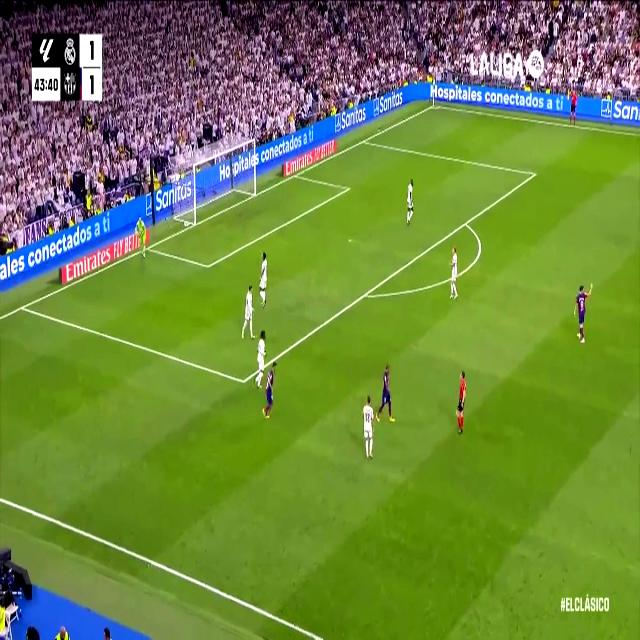bigarea_bottom_inner: (239, 370, 249, 392)
bigarea_bottom_outter: (18, 297, 28, 316)
bigarea_top_inner: (531, 166, 537, 182)
bigarea_top_outter: (360, 133, 368, 147)
bottom_arc_area_intersection: (360, 284, 370, 304)
corner: (429, 100, 438, 110)
smallarea_bottom_inner: (204, 256, 212, 276)
smallarea_bottom_outter: (144, 240, 152, 254)
smallarea_top_inner: (344, 182, 350, 194)
top_arc_area_intersection: (462, 215, 468, 229)
